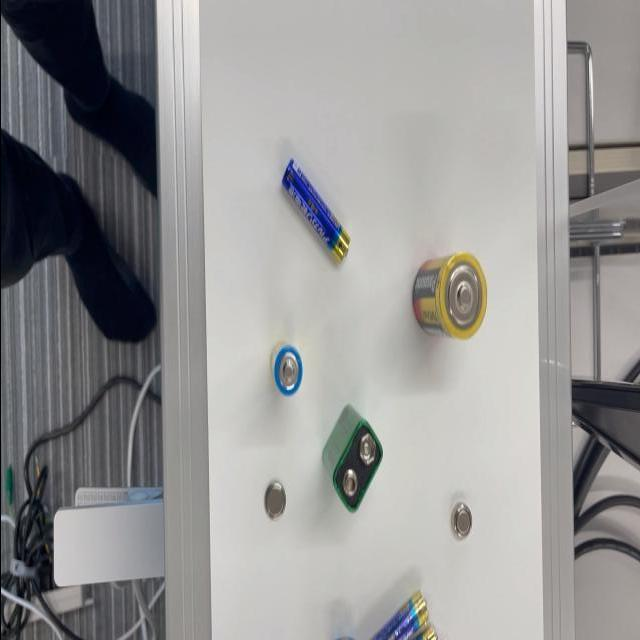9V: (320, 403, 382, 511)
